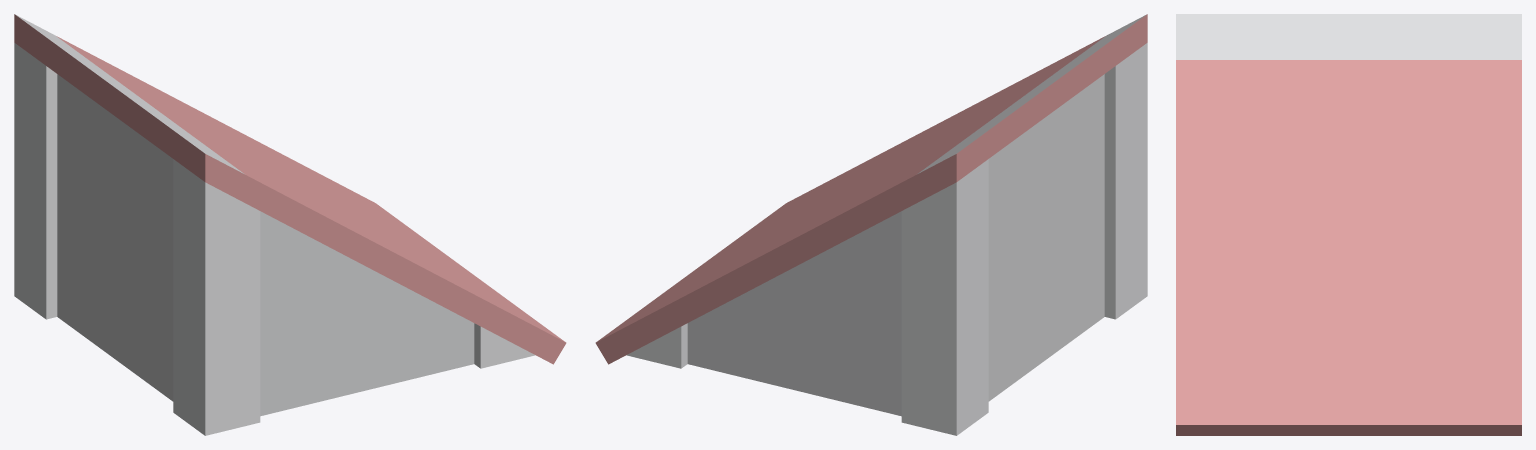
Rendered from Roof_Slant_Red_01.glb.
3 views of the same model, side by side, from view 1: azimuth 30°, elevation 25°; view 2: azimuth 150°, elevation 25°; view 3: azimuth 270°, elevation 25° (orthographic). The views are drawn at different scales.
Visible parts, largest first — view 1: Roof_Slant_Red_01; view 2: Roof_Slant_Red_01; view 3: Roof_Slant_Red_01.
Boxes of the visible parts, x1,y1,x2,y2 form: Roof_Slant_Red_01: [14, 14, 566, 435]; Roof_Slant_Red_01: [595, 14, 1147, 435]; Roof_Slant_Red_01: [1176, 14, 1521, 435].
Bounding box in the file's own units: 3.28 × 2.57 × 3.
